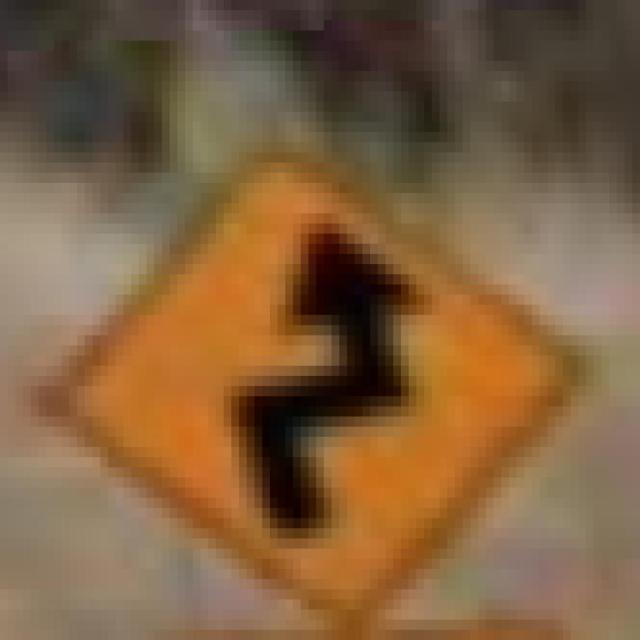Tikungan Ganda Pertama Ke Kanan: (15, 121, 594, 620)
